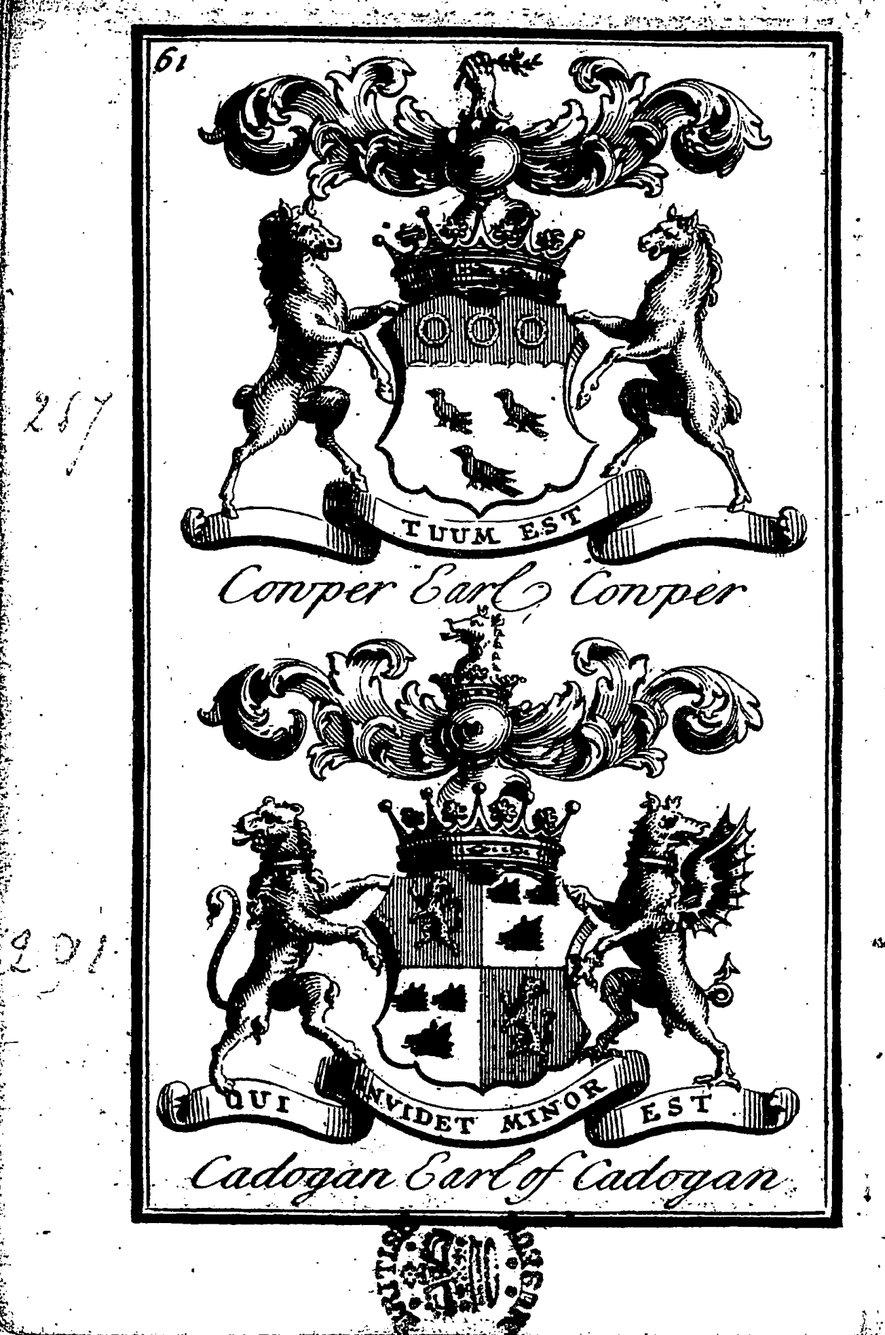coat_of_arms: (170, 613, 802, 1199), (169, 47, 781, 613)
